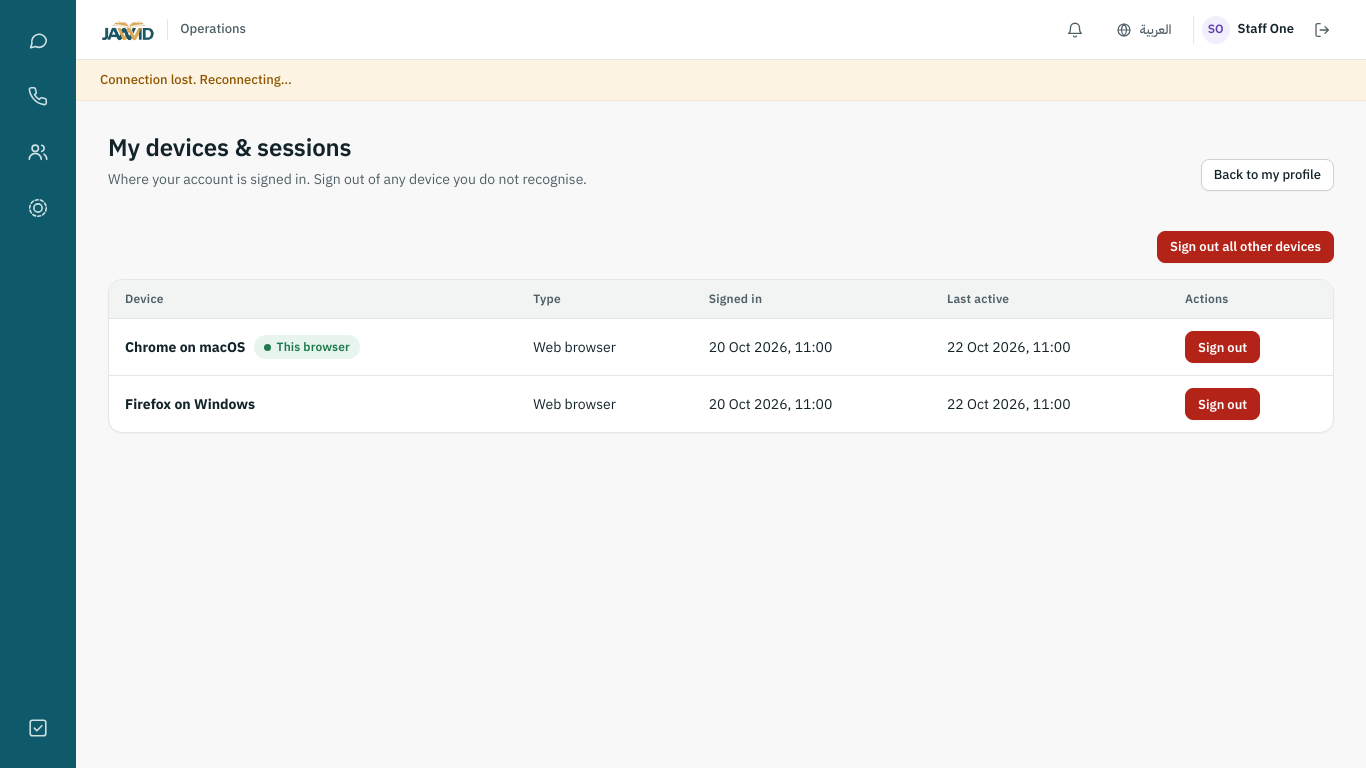
PD-23: My devices & sessions › signs out all other devices after a confirmation
Click the button "Sign out all other devices" at {"x": 1246, "y": 247}, box [1157, 231, 1334, 263]
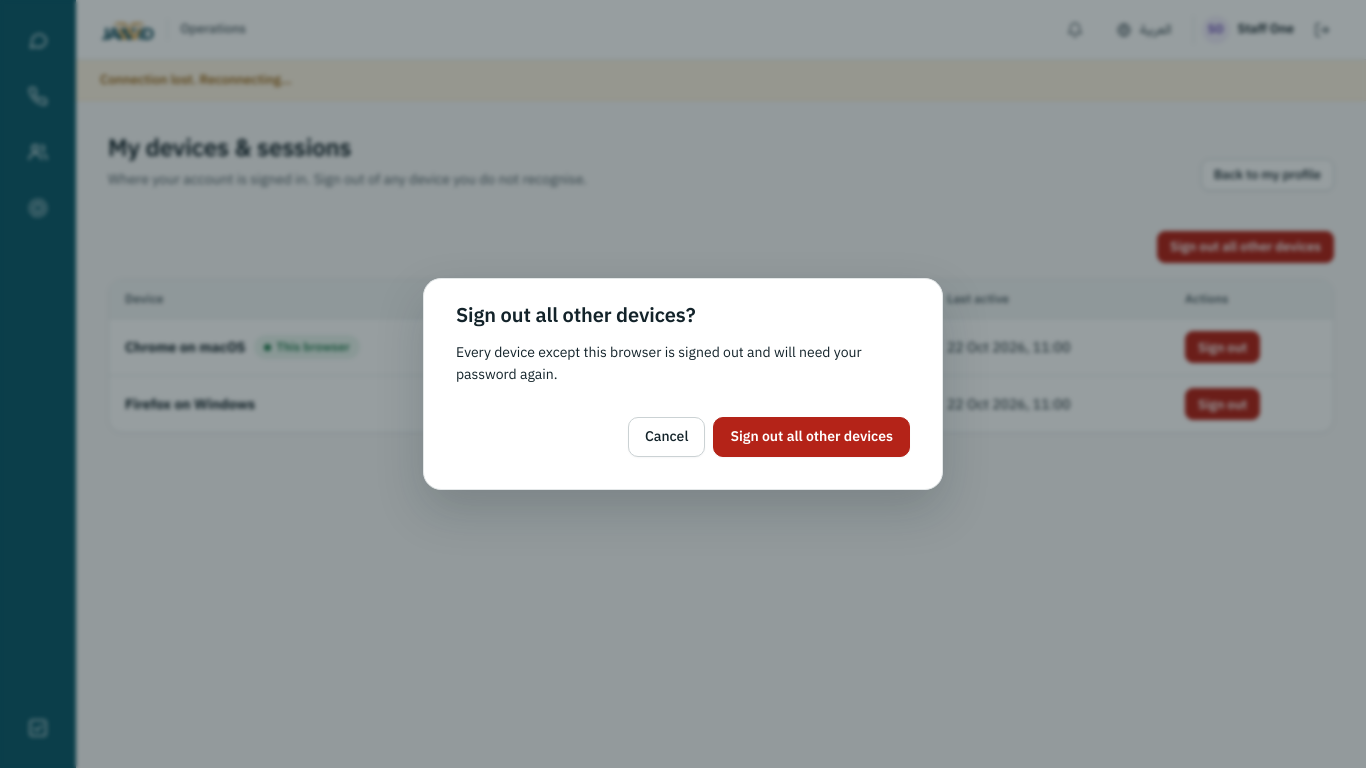
Click the button "Sign out all other devices" at {"x": 812, "y": 437}, box [713, 417, 910, 457]
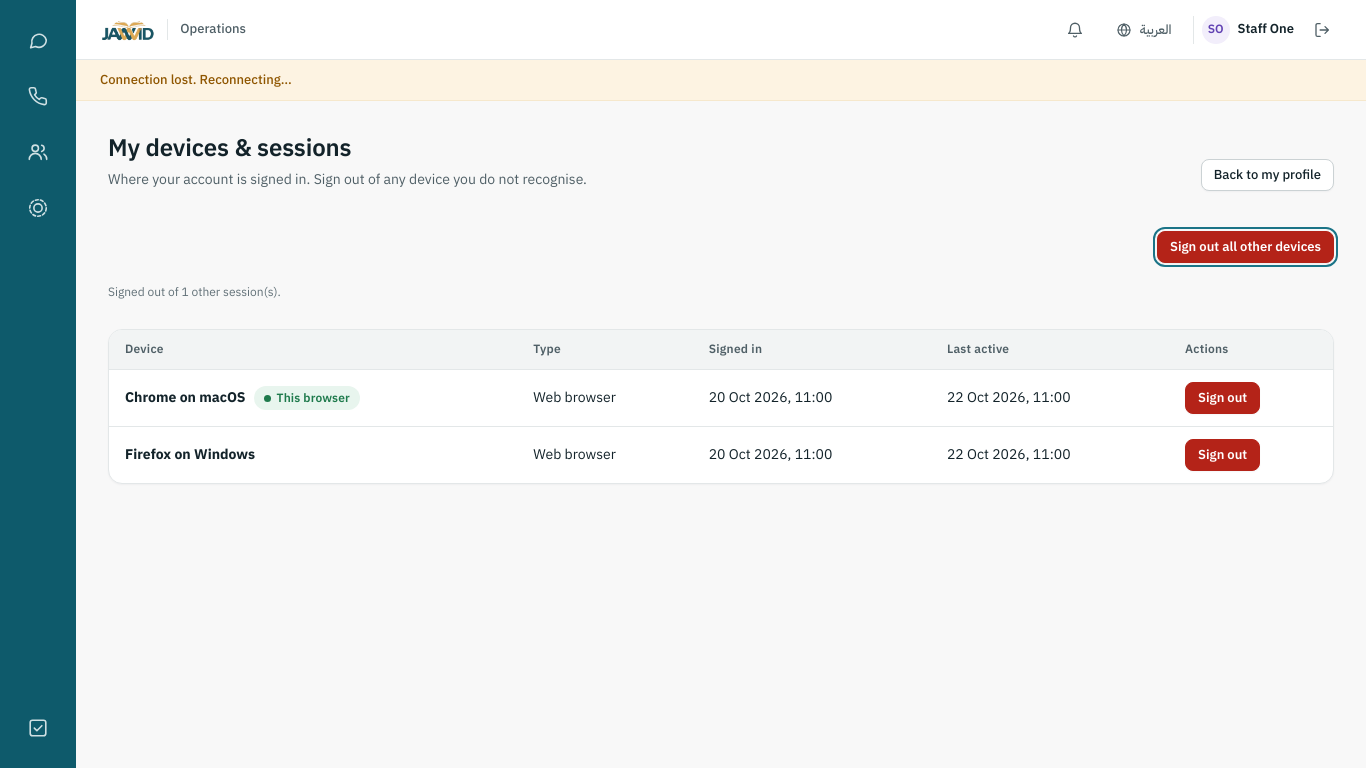
Result: the text "Signed out of 1 other session(s)." is shown at [108, 283, 281, 301]
